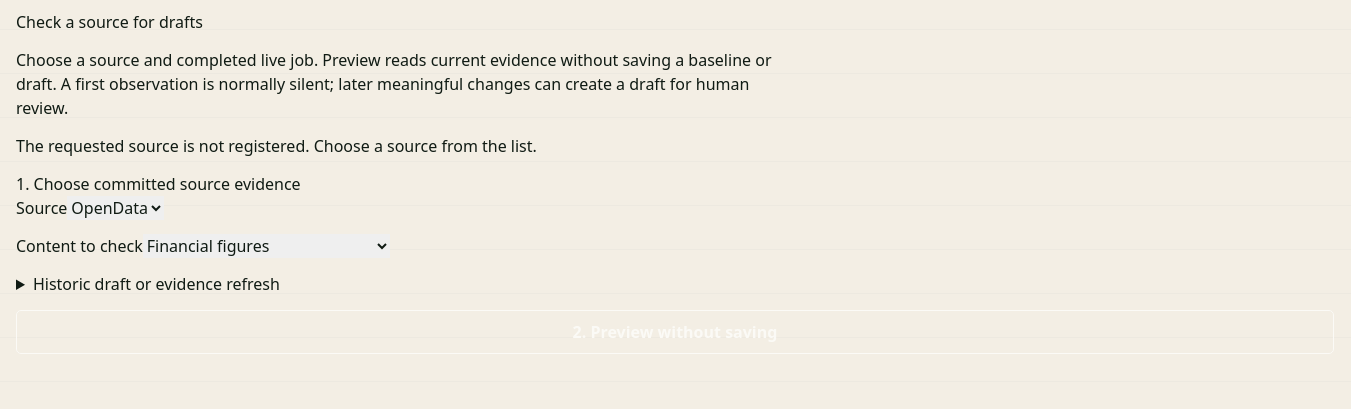
Test case: unsupported source explains its absent contract without asking for IDs or mutating
Select "OpenData" in the dropdown labelled "Source" at x=116, y=208, box x1=67 y1=196 x2=164 y2=220
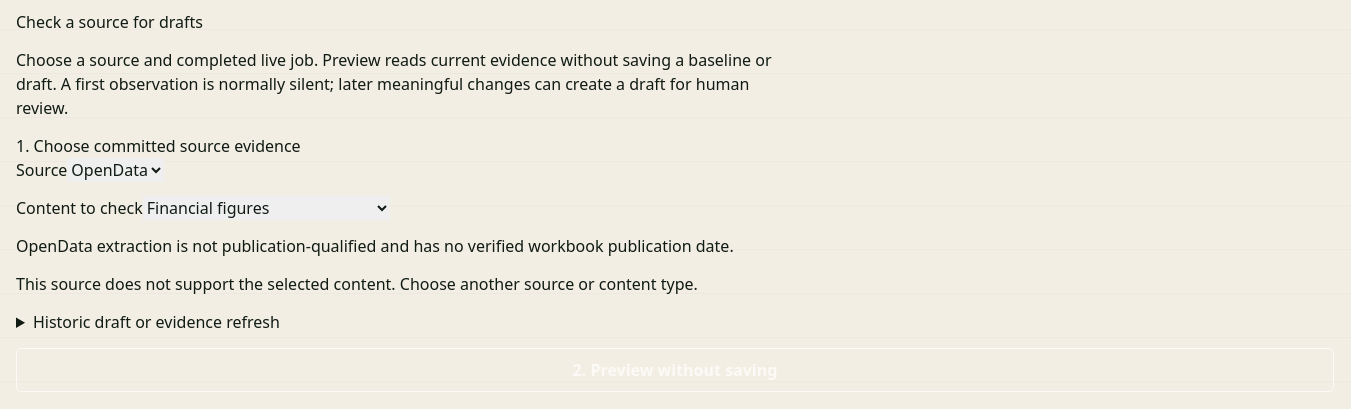
Expected: the text "does not support the selected content" is shown, x1=16 y1=273 x2=698 y2=295
